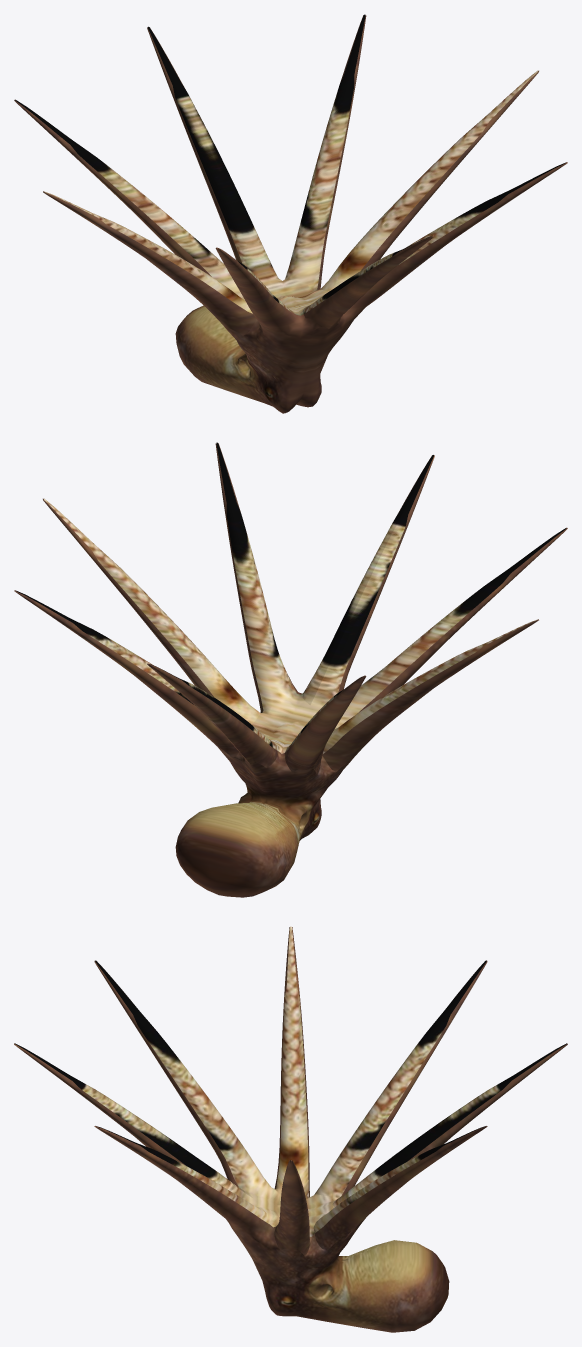
Rendered from Octopus.obj.
3 renders of one model, top to bottom at view 1: azimuth 30°, elevation 25°; view 2: azimuth 150°, elevation 25°; view 3: azimuth 270°, elevation 25°, orthographic. The views are drawn at different scales.
Visible parts, largest first — view 1: octopus.001, octopus; view 2: octopus.001, octopus; view 3: octopus.001, octopus.
Boxes of the visible parts, x1=… form: octopus.001: x1=14, y1=15, x2=567, y2=413; octopus: x1=15, y1=14, x2=566, y2=315; octopus.001: x1=14, y1=443, x2=567, y2=897; octopus: x1=16, y1=442, x2=566, y2=753; octopus.001: x1=14, y1=927, x2=567, y2=1332; octopus: x1=15, y1=926, x2=566, y2=1236.
Size of the model in its own units: 0.9928 by 0.5578 by 0.99.
2 materials, 2 textured.
